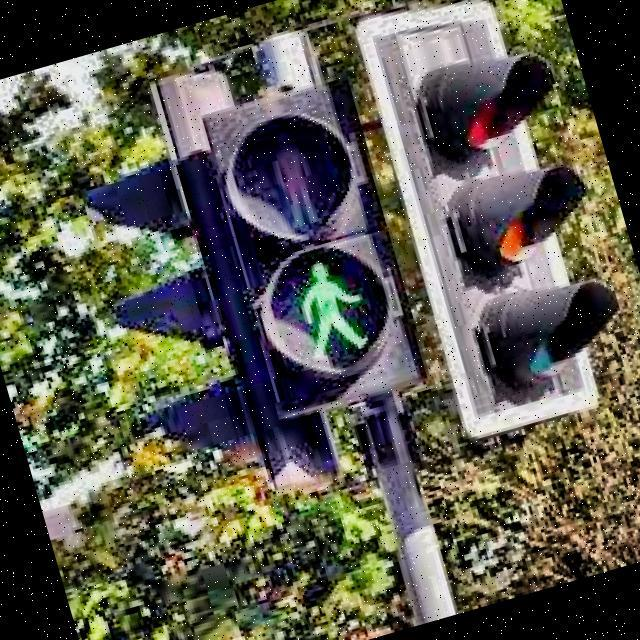green_light: (287, 251, 378, 366)
